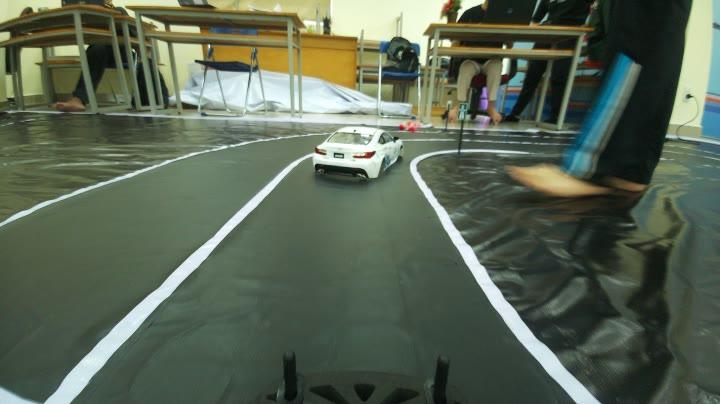car: (308, 122, 406, 189)
